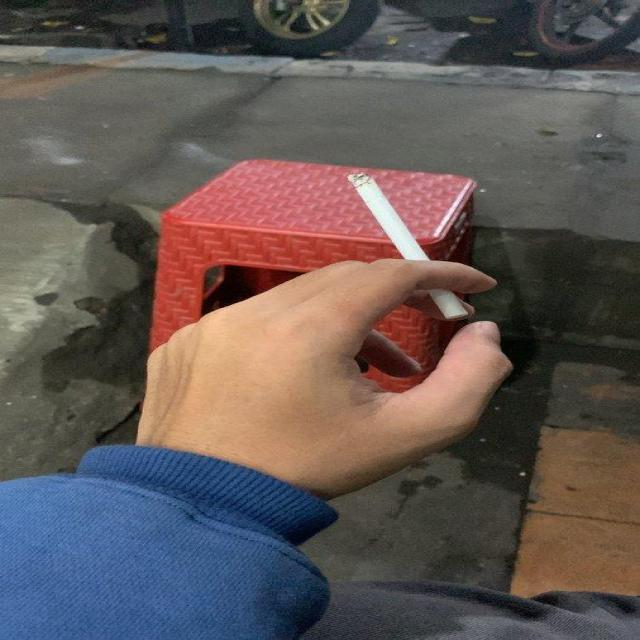rokok: (347, 167, 479, 325)
